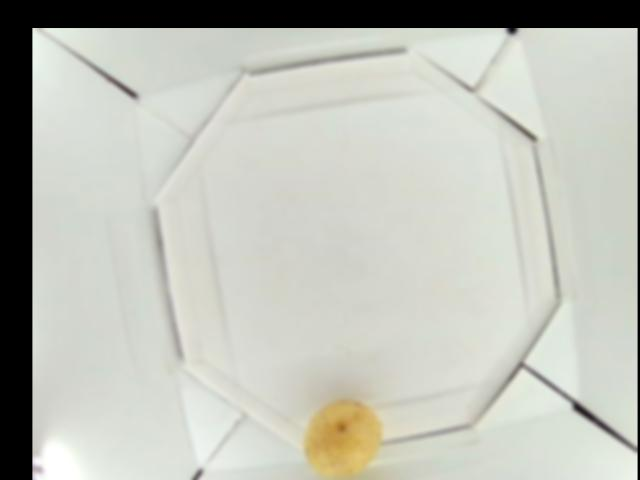Potato: (304, 397, 380, 480)
